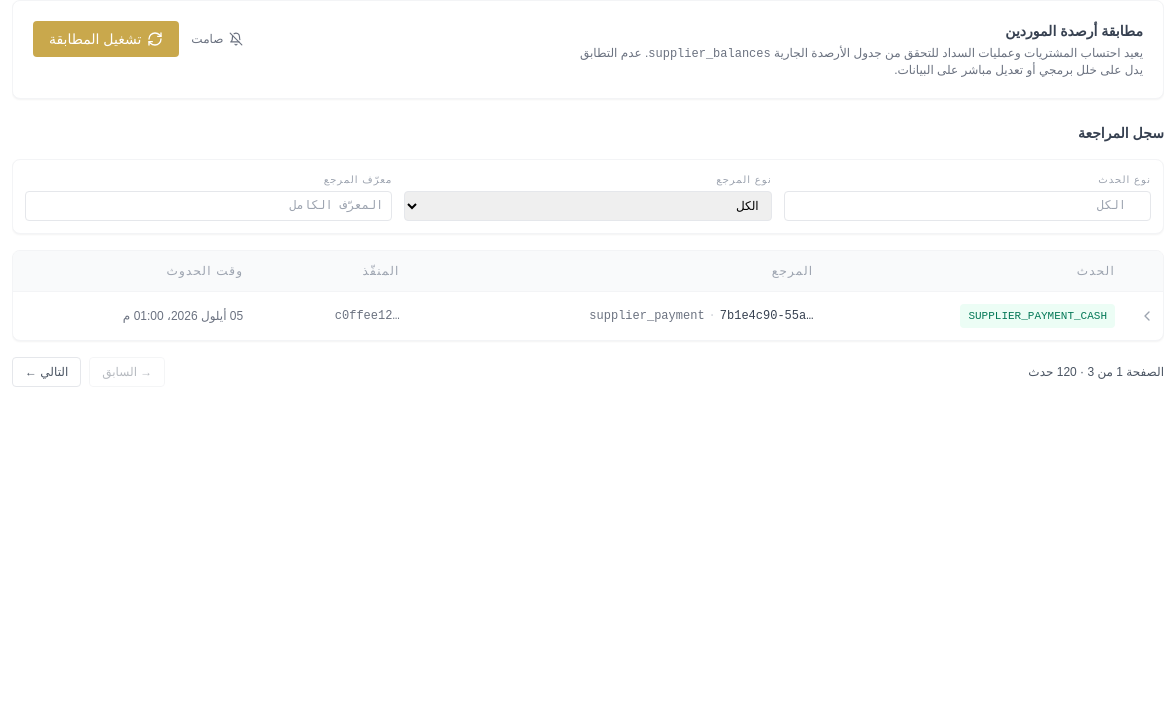
Test: inventory ledger labels and i18n (NEX-64) › keeps event codes, reference types and the payload exactly as recorded
Click the text "SUPPLIER_PAYMENT_CASH".
click(1038, 316)  # box [960, 304, 1115, 328]
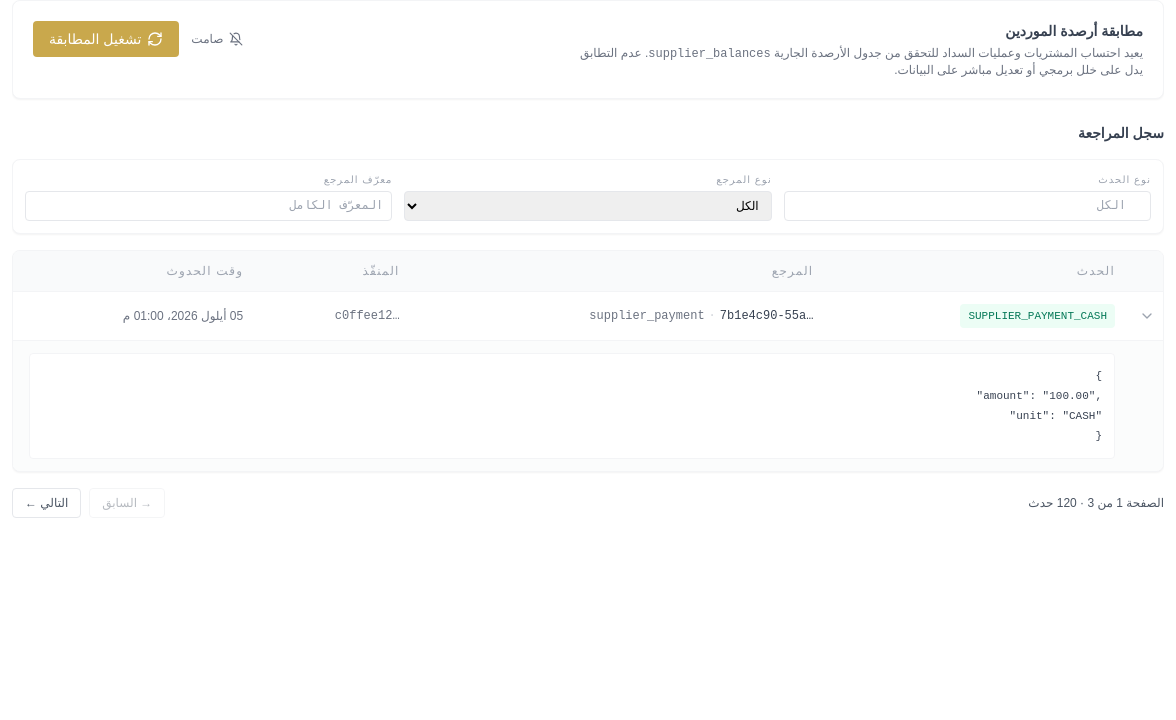
Result: the text "{ \"amount\": \"100.00\", \"unit\": \"CASH\" }" is shown at [29, 353, 1115, 459]
